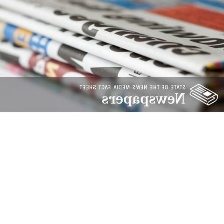news_paper: (0, 0, 223, 112)
